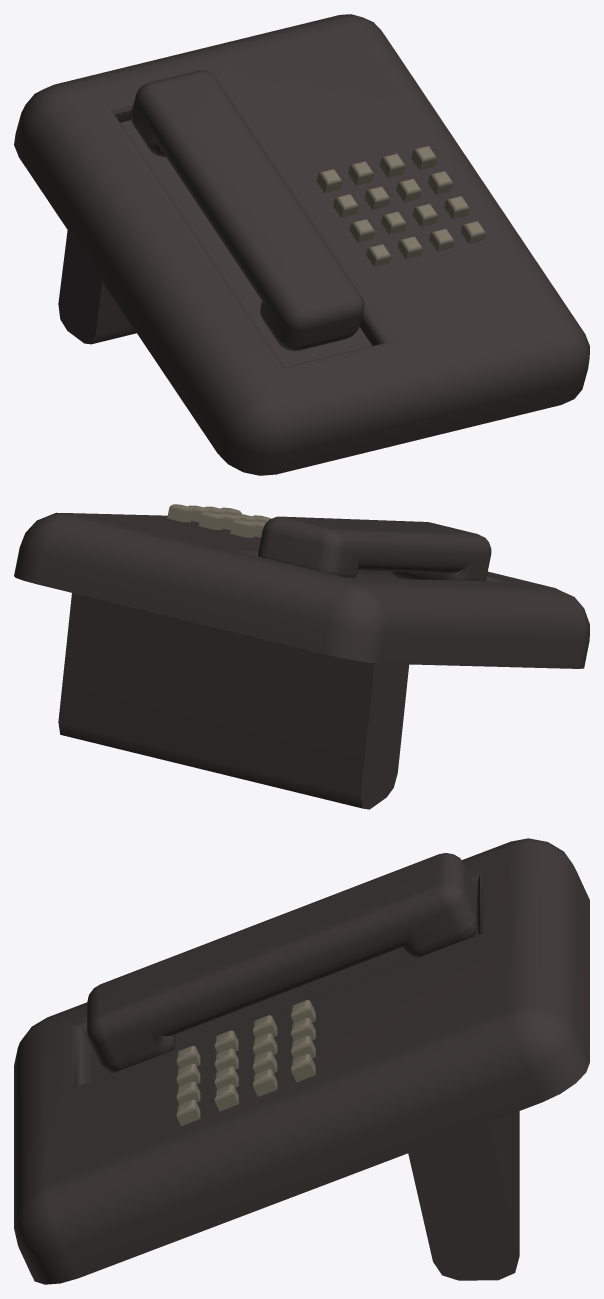
File: telefono fijo.fbx
The picture shows the model from 3 angles, top to bottom: view 1: azimuth 30°, elevation 25°; view 2: azimuth 150°, elevation 25°; view 3: azimuth 270°, elevation 25°; orthographic projection. The views are drawn at different scales.
Visible parts, largest first — view 1: pCube21; view 2: pCube21; view 3: pCube21.
Boxes of the visible parts, x1,y1,x2,y2 form: pCube21: (14, 14, 589, 475); pCube21: (14, 504, 589, 809); pCube21: (14, 838, 589, 1284).
Bounding box in the file's own units: 15.15 × 9.94 × 17.91.
